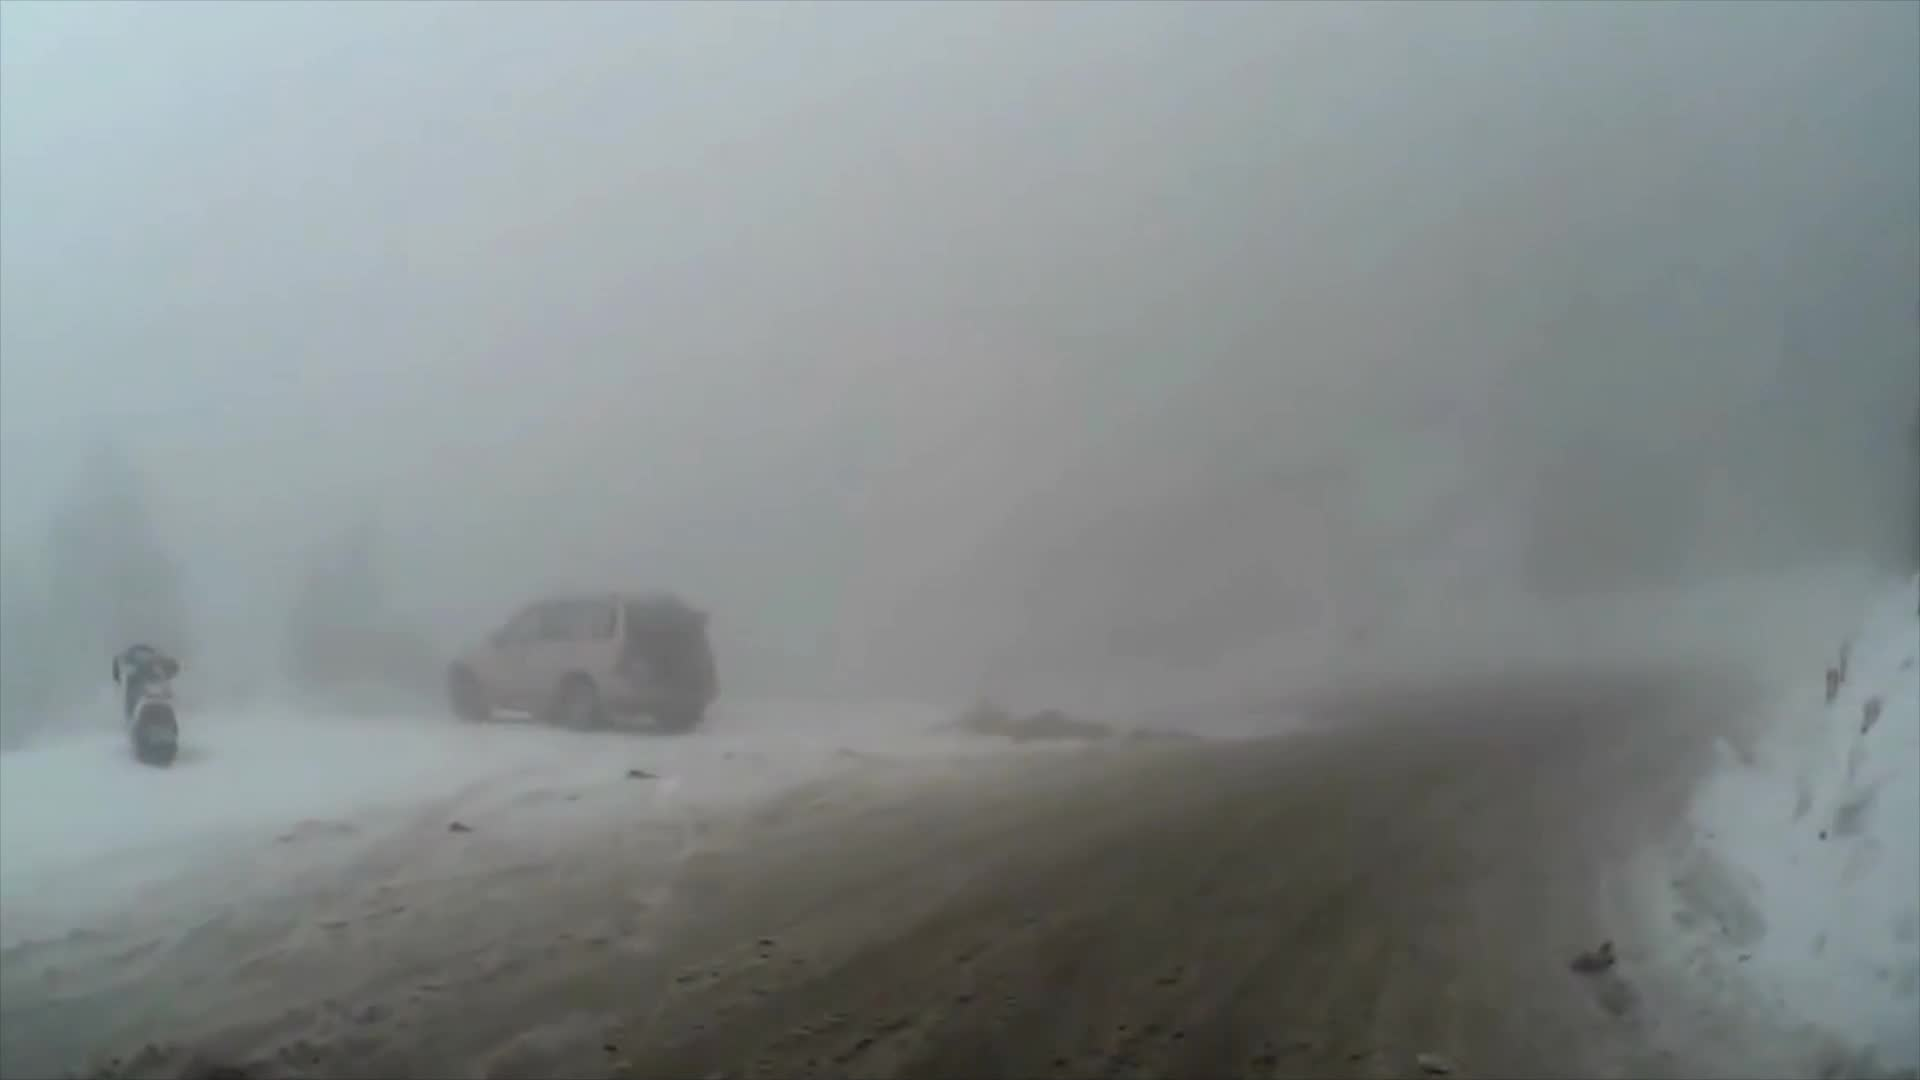vehicle: (439, 591, 716, 745)
